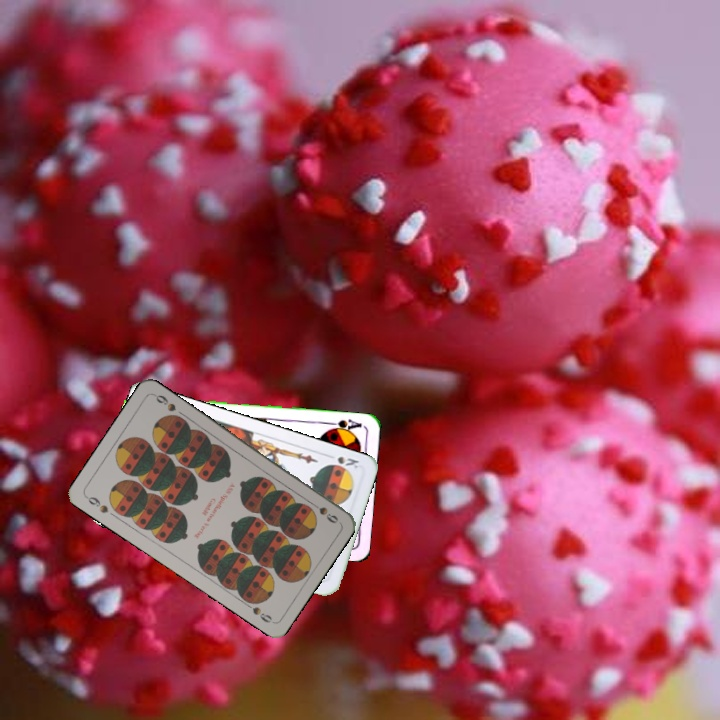S9: (305, 497, 341, 526), (82, 492, 111, 516)
SA: (324, 415, 364, 435)
SK: (323, 450, 362, 471)
